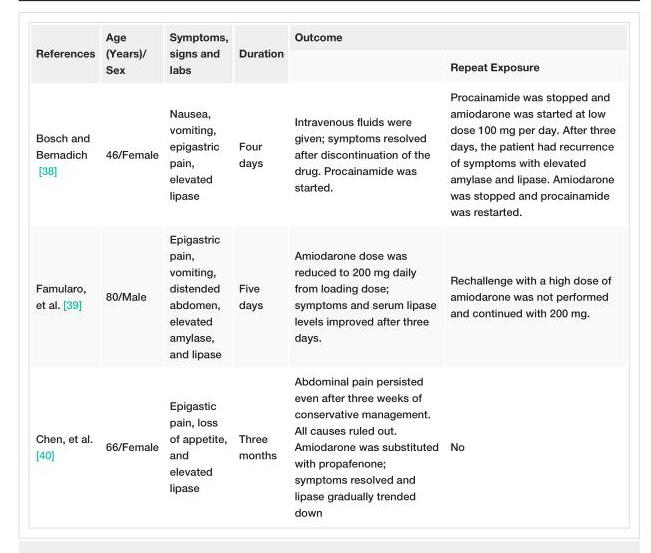table: (34, 35, 614, 516)
table column: (443, 35, 614, 516), (288, 35, 443, 516), (163, 35, 232, 516), (34, 35, 99, 516), (99, 35, 163, 516), (232, 35, 288, 516)
table row: (34, 368, 614, 516), (34, 84, 614, 226), (34, 226, 614, 368), (34, 53, 614, 84), (34, 35, 614, 53)
table spanning cell: (288, 35, 614, 53), (163, 35, 232, 84), (34, 35, 99, 84), (99, 35, 163, 84), (232, 35, 288, 84)
